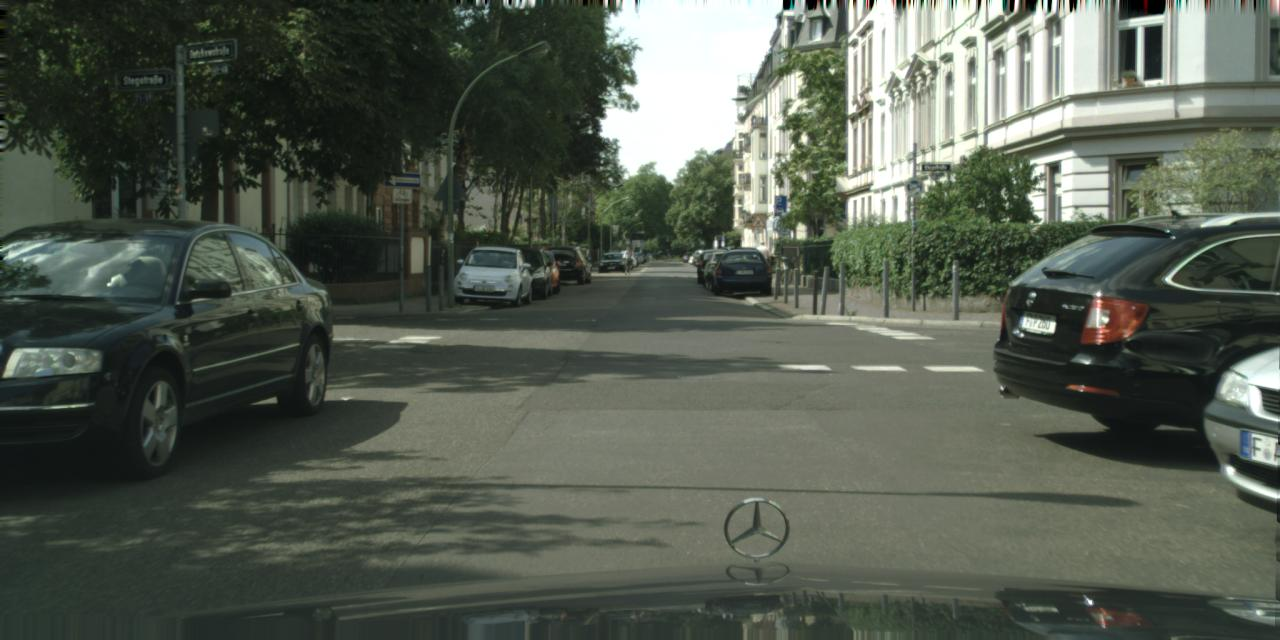ped: (754, 240, 771, 283), (622, 246, 632, 270)
